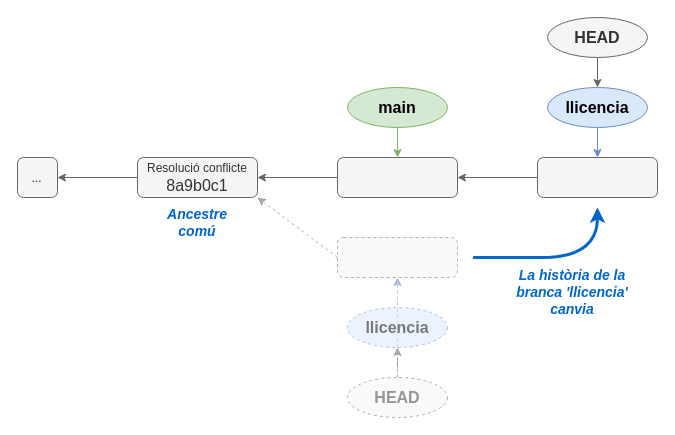
This 675x435 diagram has some shape labels left out. The shapes that lost their labels are listed below. From the top down, each one's centre as x and y in pixels, then its label:
point (397, 177): Text rebase 1b2c3d4
point (597, 177): Llicència 8bad4a1
point (397, 257): Llicència e474d76
